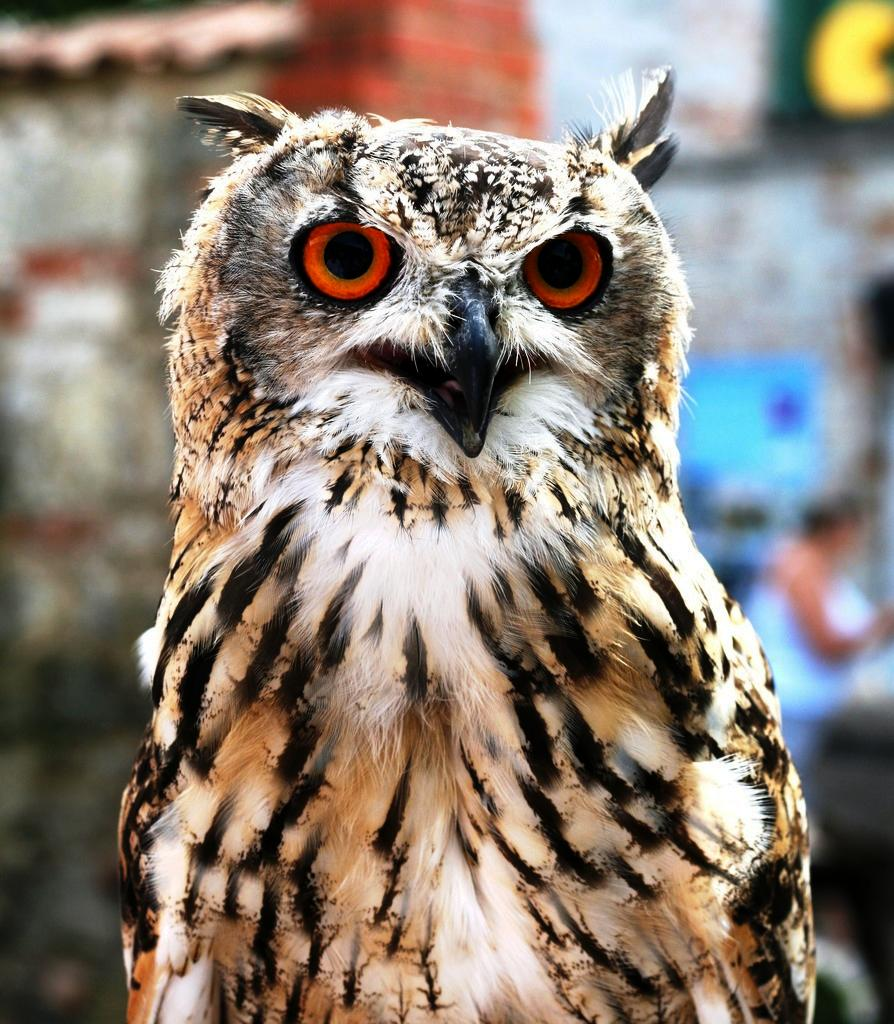Owl: (115, 55, 823, 1023)
